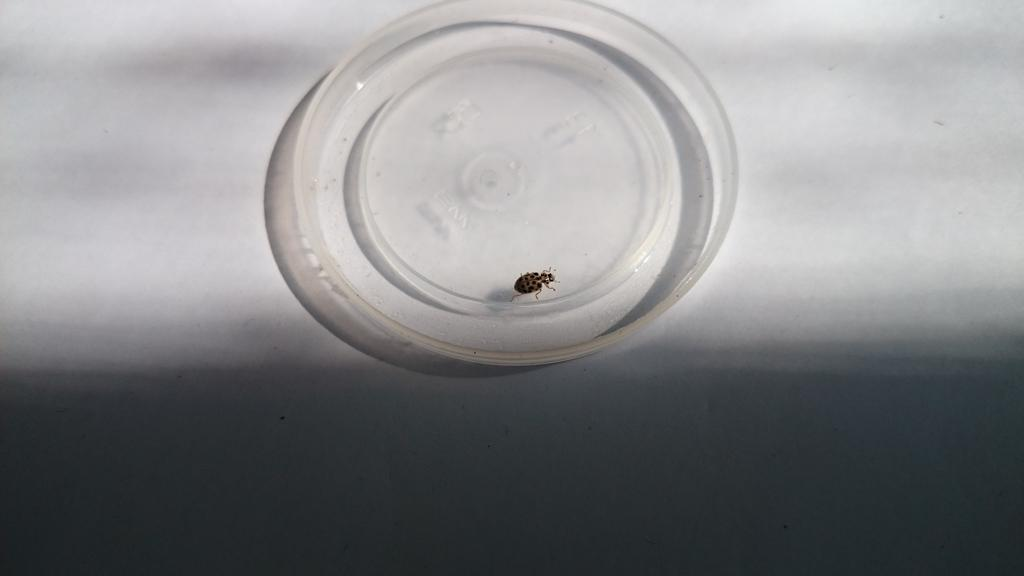ladybug: (510, 266, 564, 304)
